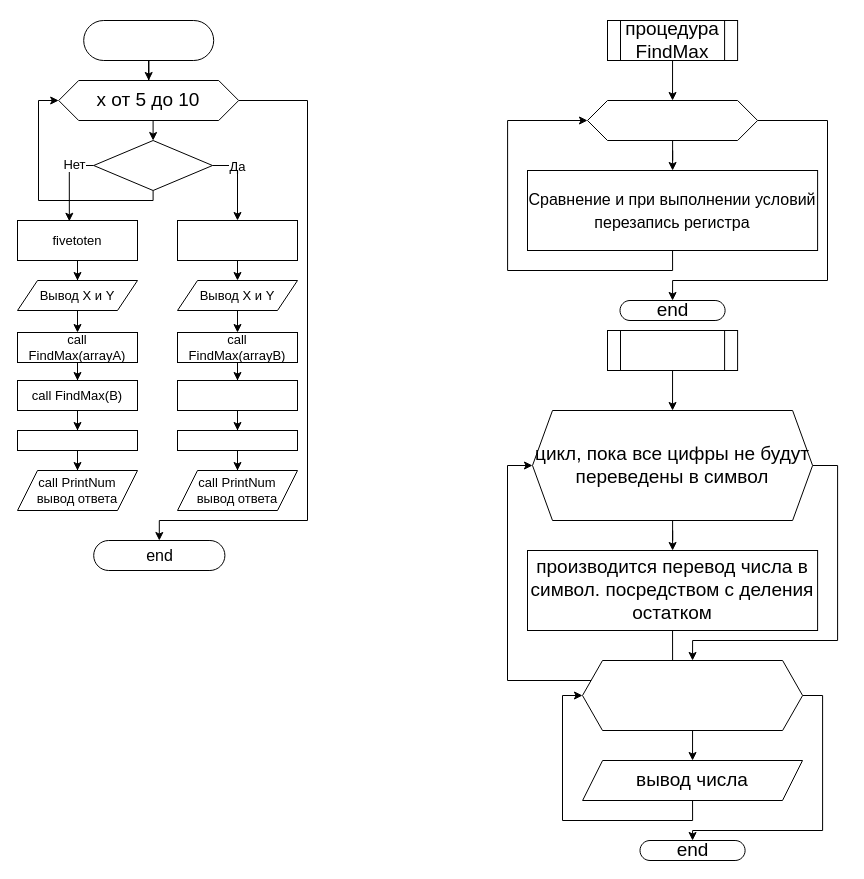
This 864x879 diagram has some shape labels left out. The shapes that lost their labels are listed below. From the top down, each one's centre as x and y in pixels, then its label:
At pixel 148 40: "start".
At pixel 672 120: "si от 0 до 5".
At pixel 152 165: "х<=5".
At pixel 237 240: "onetofive".
At pixel 672 350: "процедура PrintNum".
At pixel 237 395: "call FindMax(A)".
At pixel 77 440: "ax+b".
At pixel 237 440: "bx+a".
At pixel 692 695: "пока, не выведется все число".
